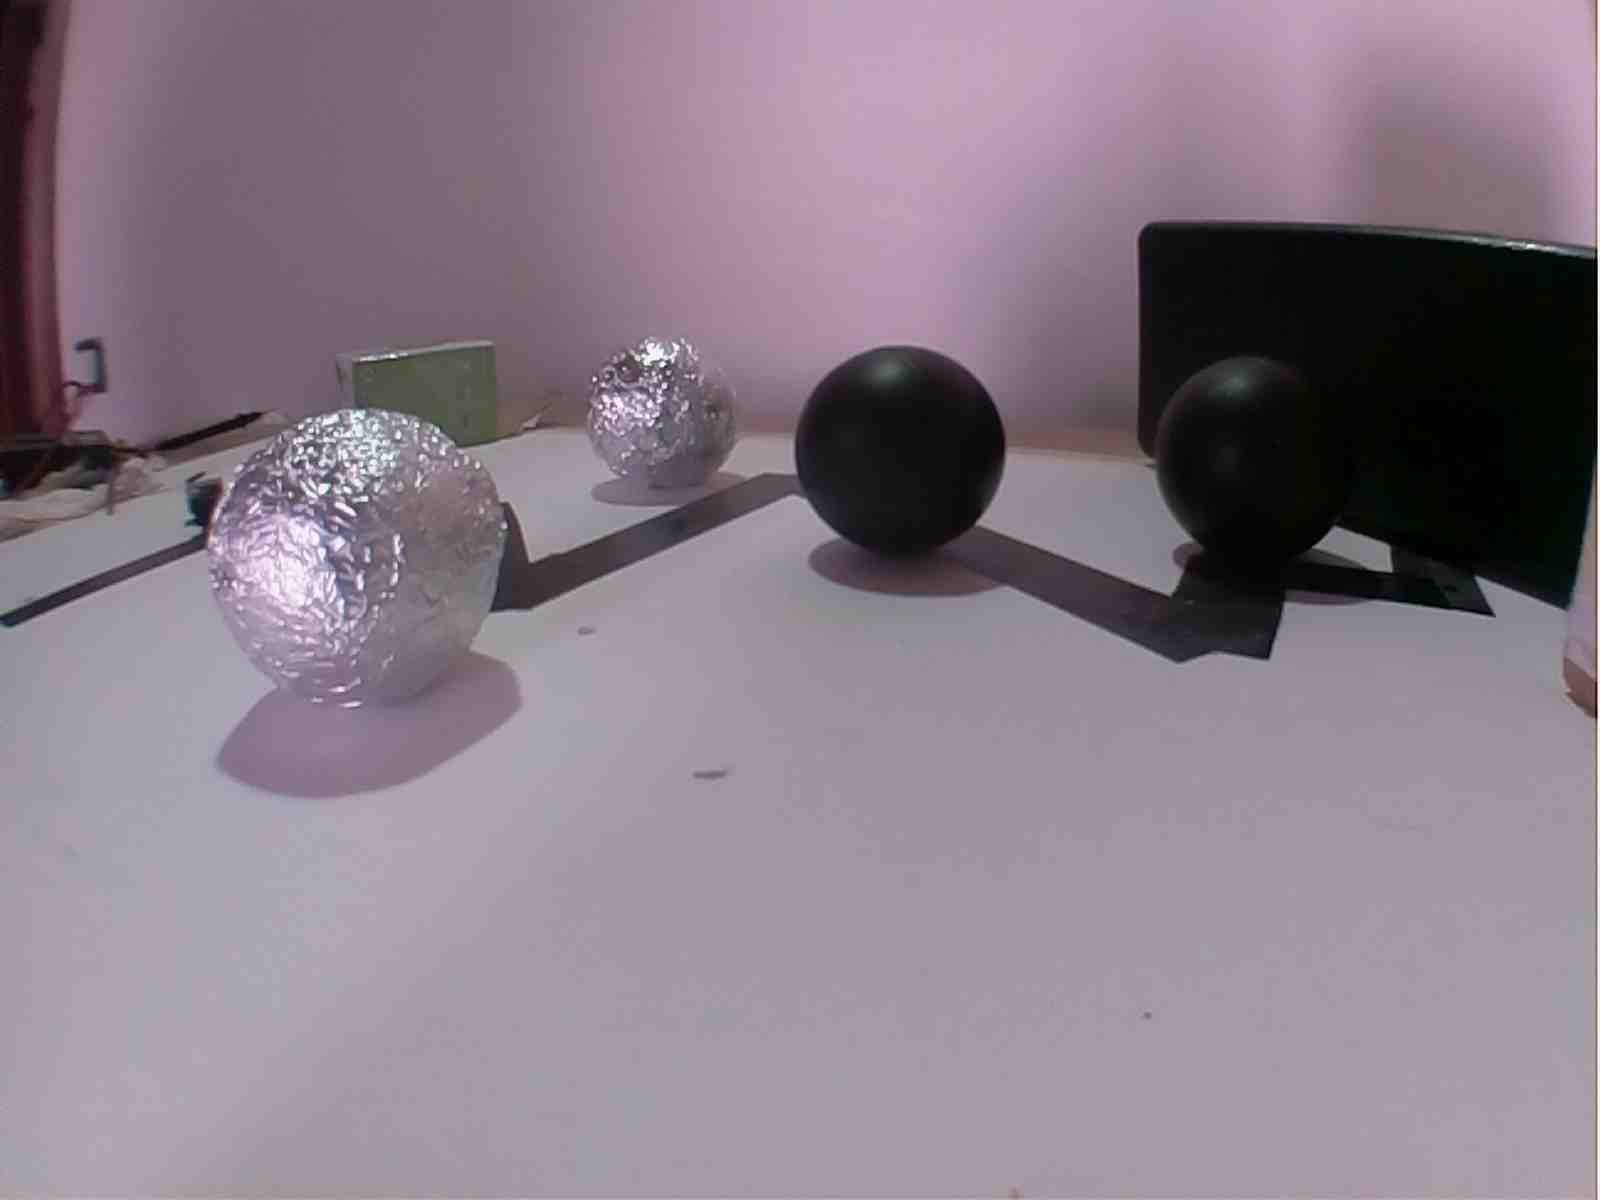bianca: (198, 402, 513, 711), (585, 332, 746, 494)
nera: (792, 340, 1020, 566), (1146, 352, 1361, 565)
